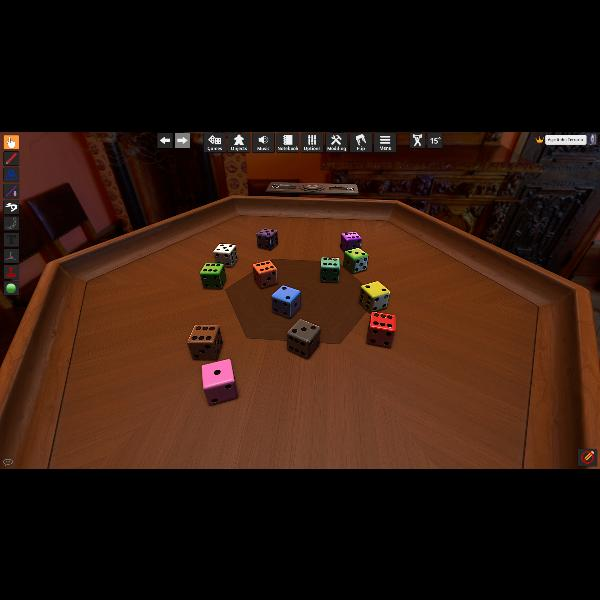d6: (200, 358, 238, 406), (290, 318, 322, 358), (186, 324, 220, 360), (361, 280, 391, 314), (368, 312, 396, 348), (271, 285, 301, 318), (252, 260, 278, 288), (200, 261, 226, 289), (343, 247, 369, 273), (213, 242, 237, 268), (256, 228, 278, 250), (320, 258, 340, 282), (340, 230, 361, 252)
